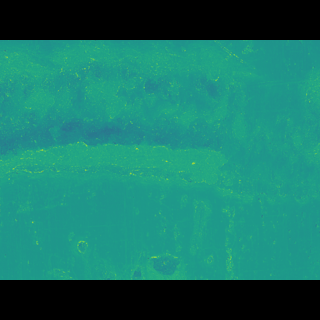Loch: (0, 71, 320, 193)
